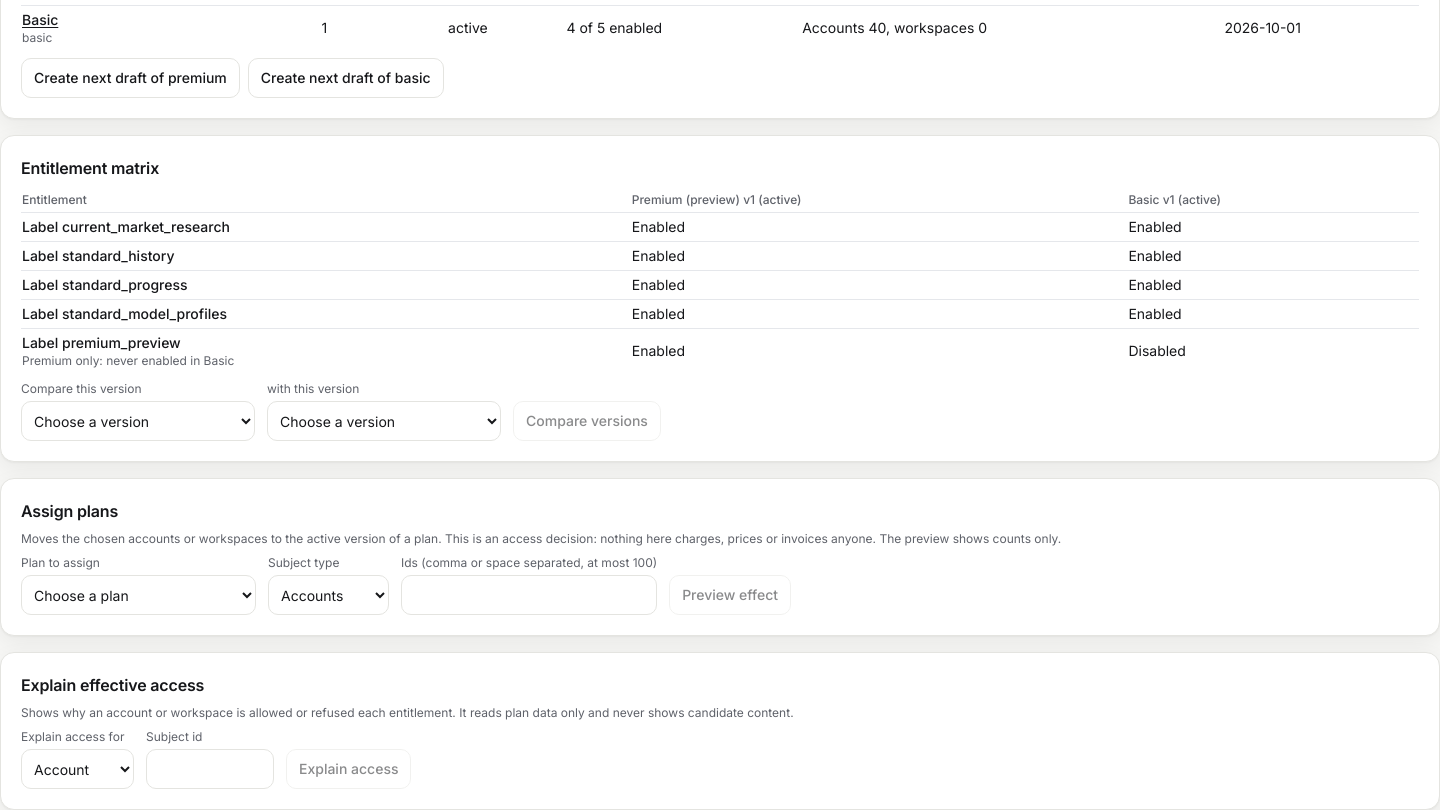
Test: Explain effective access › shows allowed and refused entitlements with the reason, and the four separate layers
(page scrolled)
Select "Account" in the dropdown labelled "Explain access for". click: (78, 769)
box: [21, 749, 134, 789]
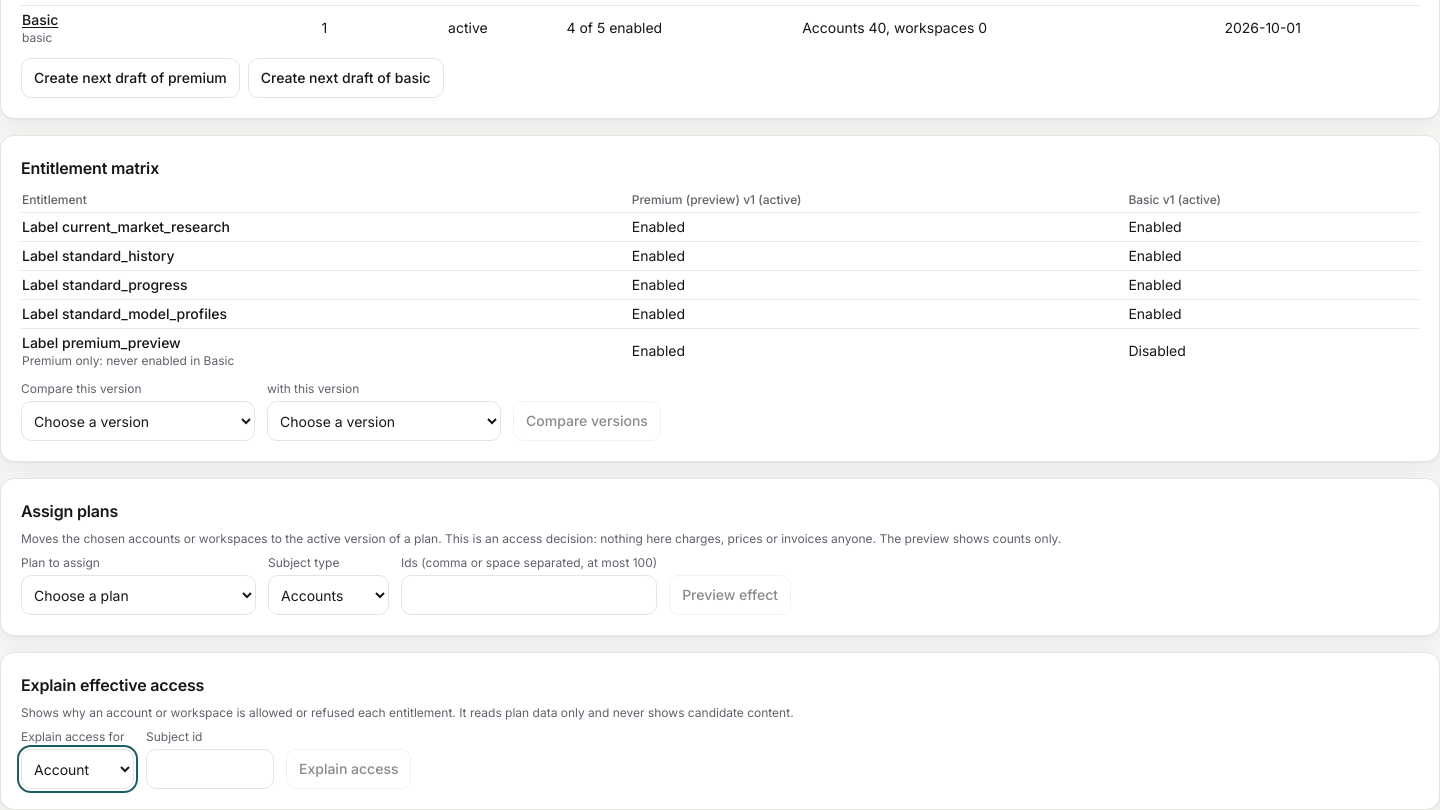
Type "7" into the field labelled "Subject id". click: (210, 769)
box: [146, 749, 274, 789]
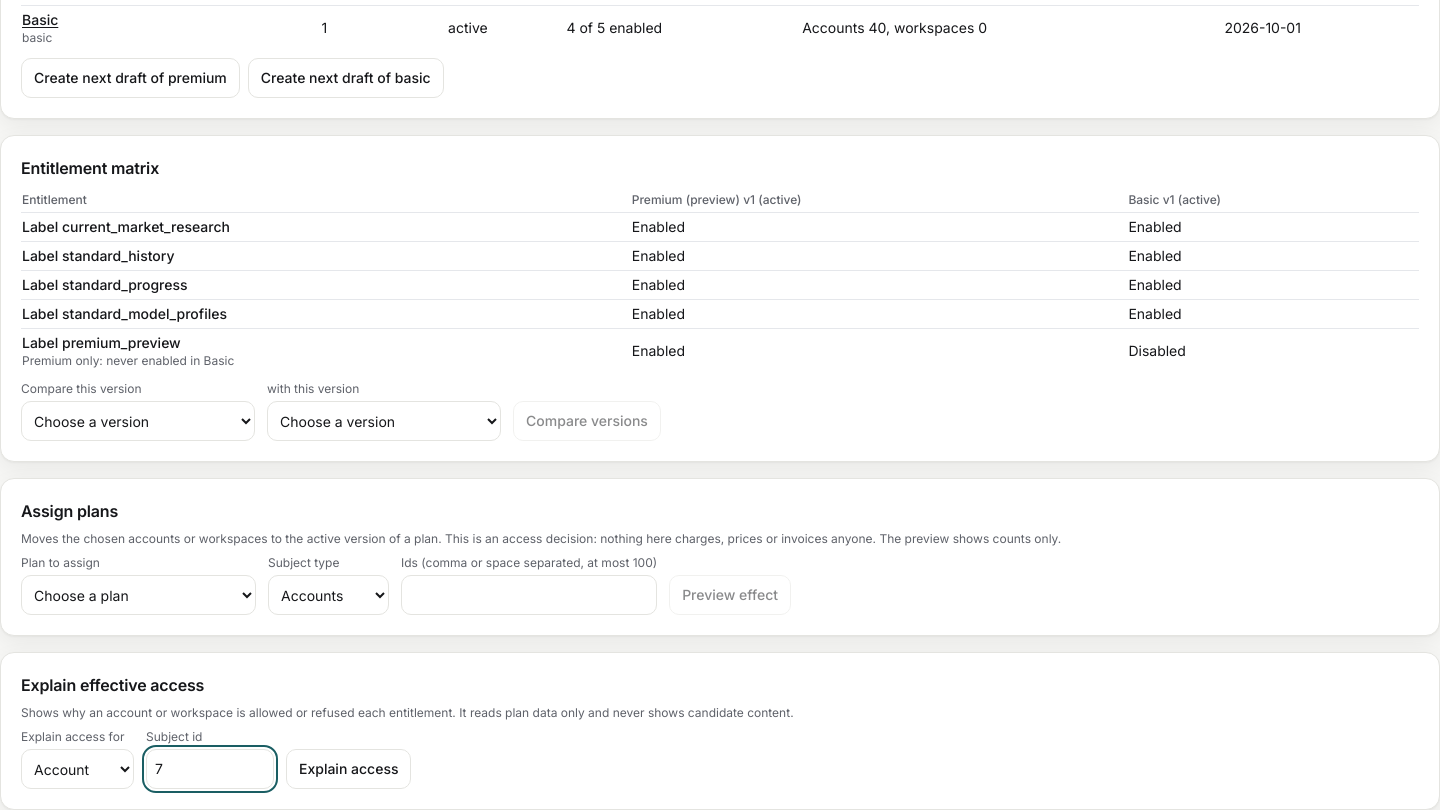
Click the button "Explain access". click: (349, 769)
box: [286, 749, 412, 789]
(page scrolled)
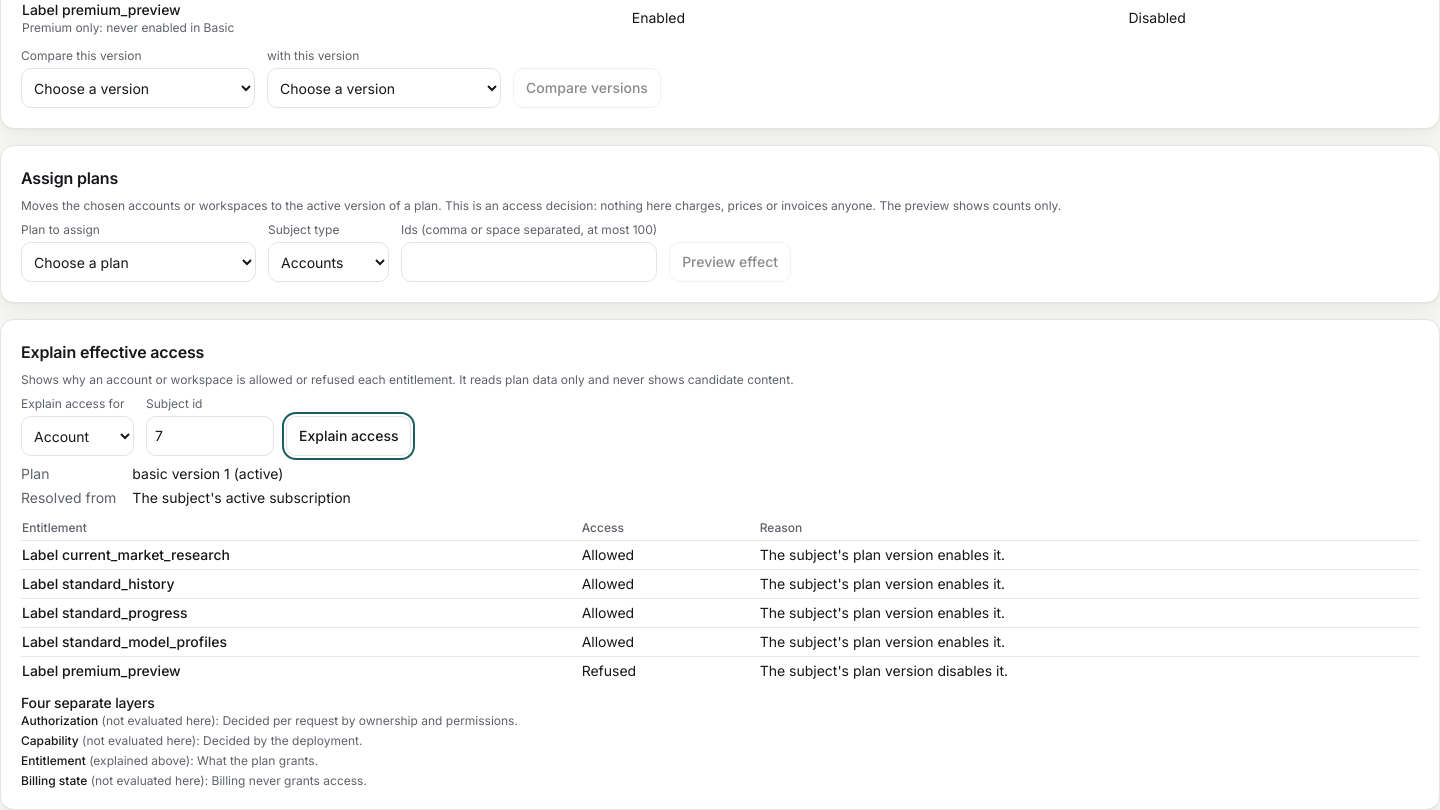
Expected: the text "basic version 1 (active)" is shown, [132, 465, 283, 482]
Expected: the text "The subject's plan version disables it." is shown, [759, 656, 1419, 685]
Expected: the text "The subject's plan version enables it." is shown 4 times, [759, 540, 1419, 570]; [759, 570, 1419, 598]; [759, 598, 1419, 628]; [759, 628, 1419, 656]
